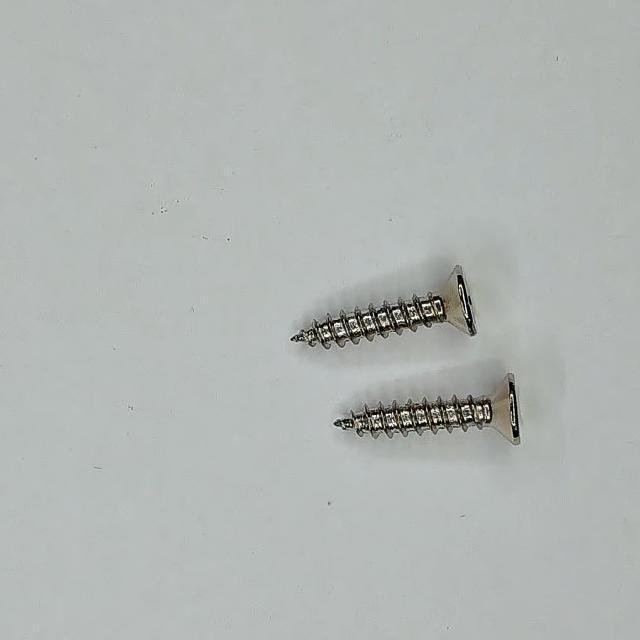Screw: (291, 265, 478, 348), (334, 374, 520, 446)
